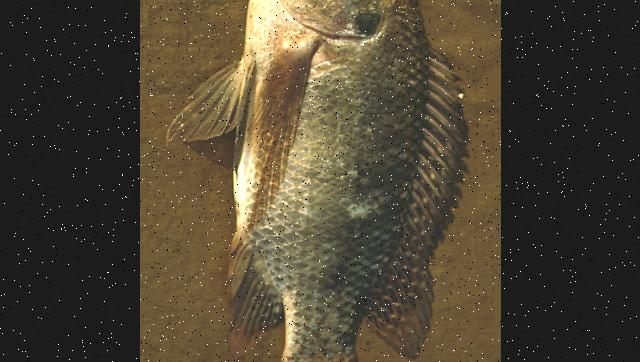Sirip Anal: (210, 250, 296, 360)
Sirip Dada: (234, 32, 334, 256)
Sirip Perut: (162, 52, 264, 158)
Sirip Punggung: (353, 45, 478, 362)
